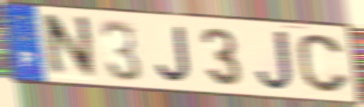3: (99, 17, 144, 84), (200, 26, 244, 88)
C: (295, 32, 352, 96)
J: (254, 28, 297, 93), (154, 23, 193, 85)
N: (45, 12, 98, 81)
